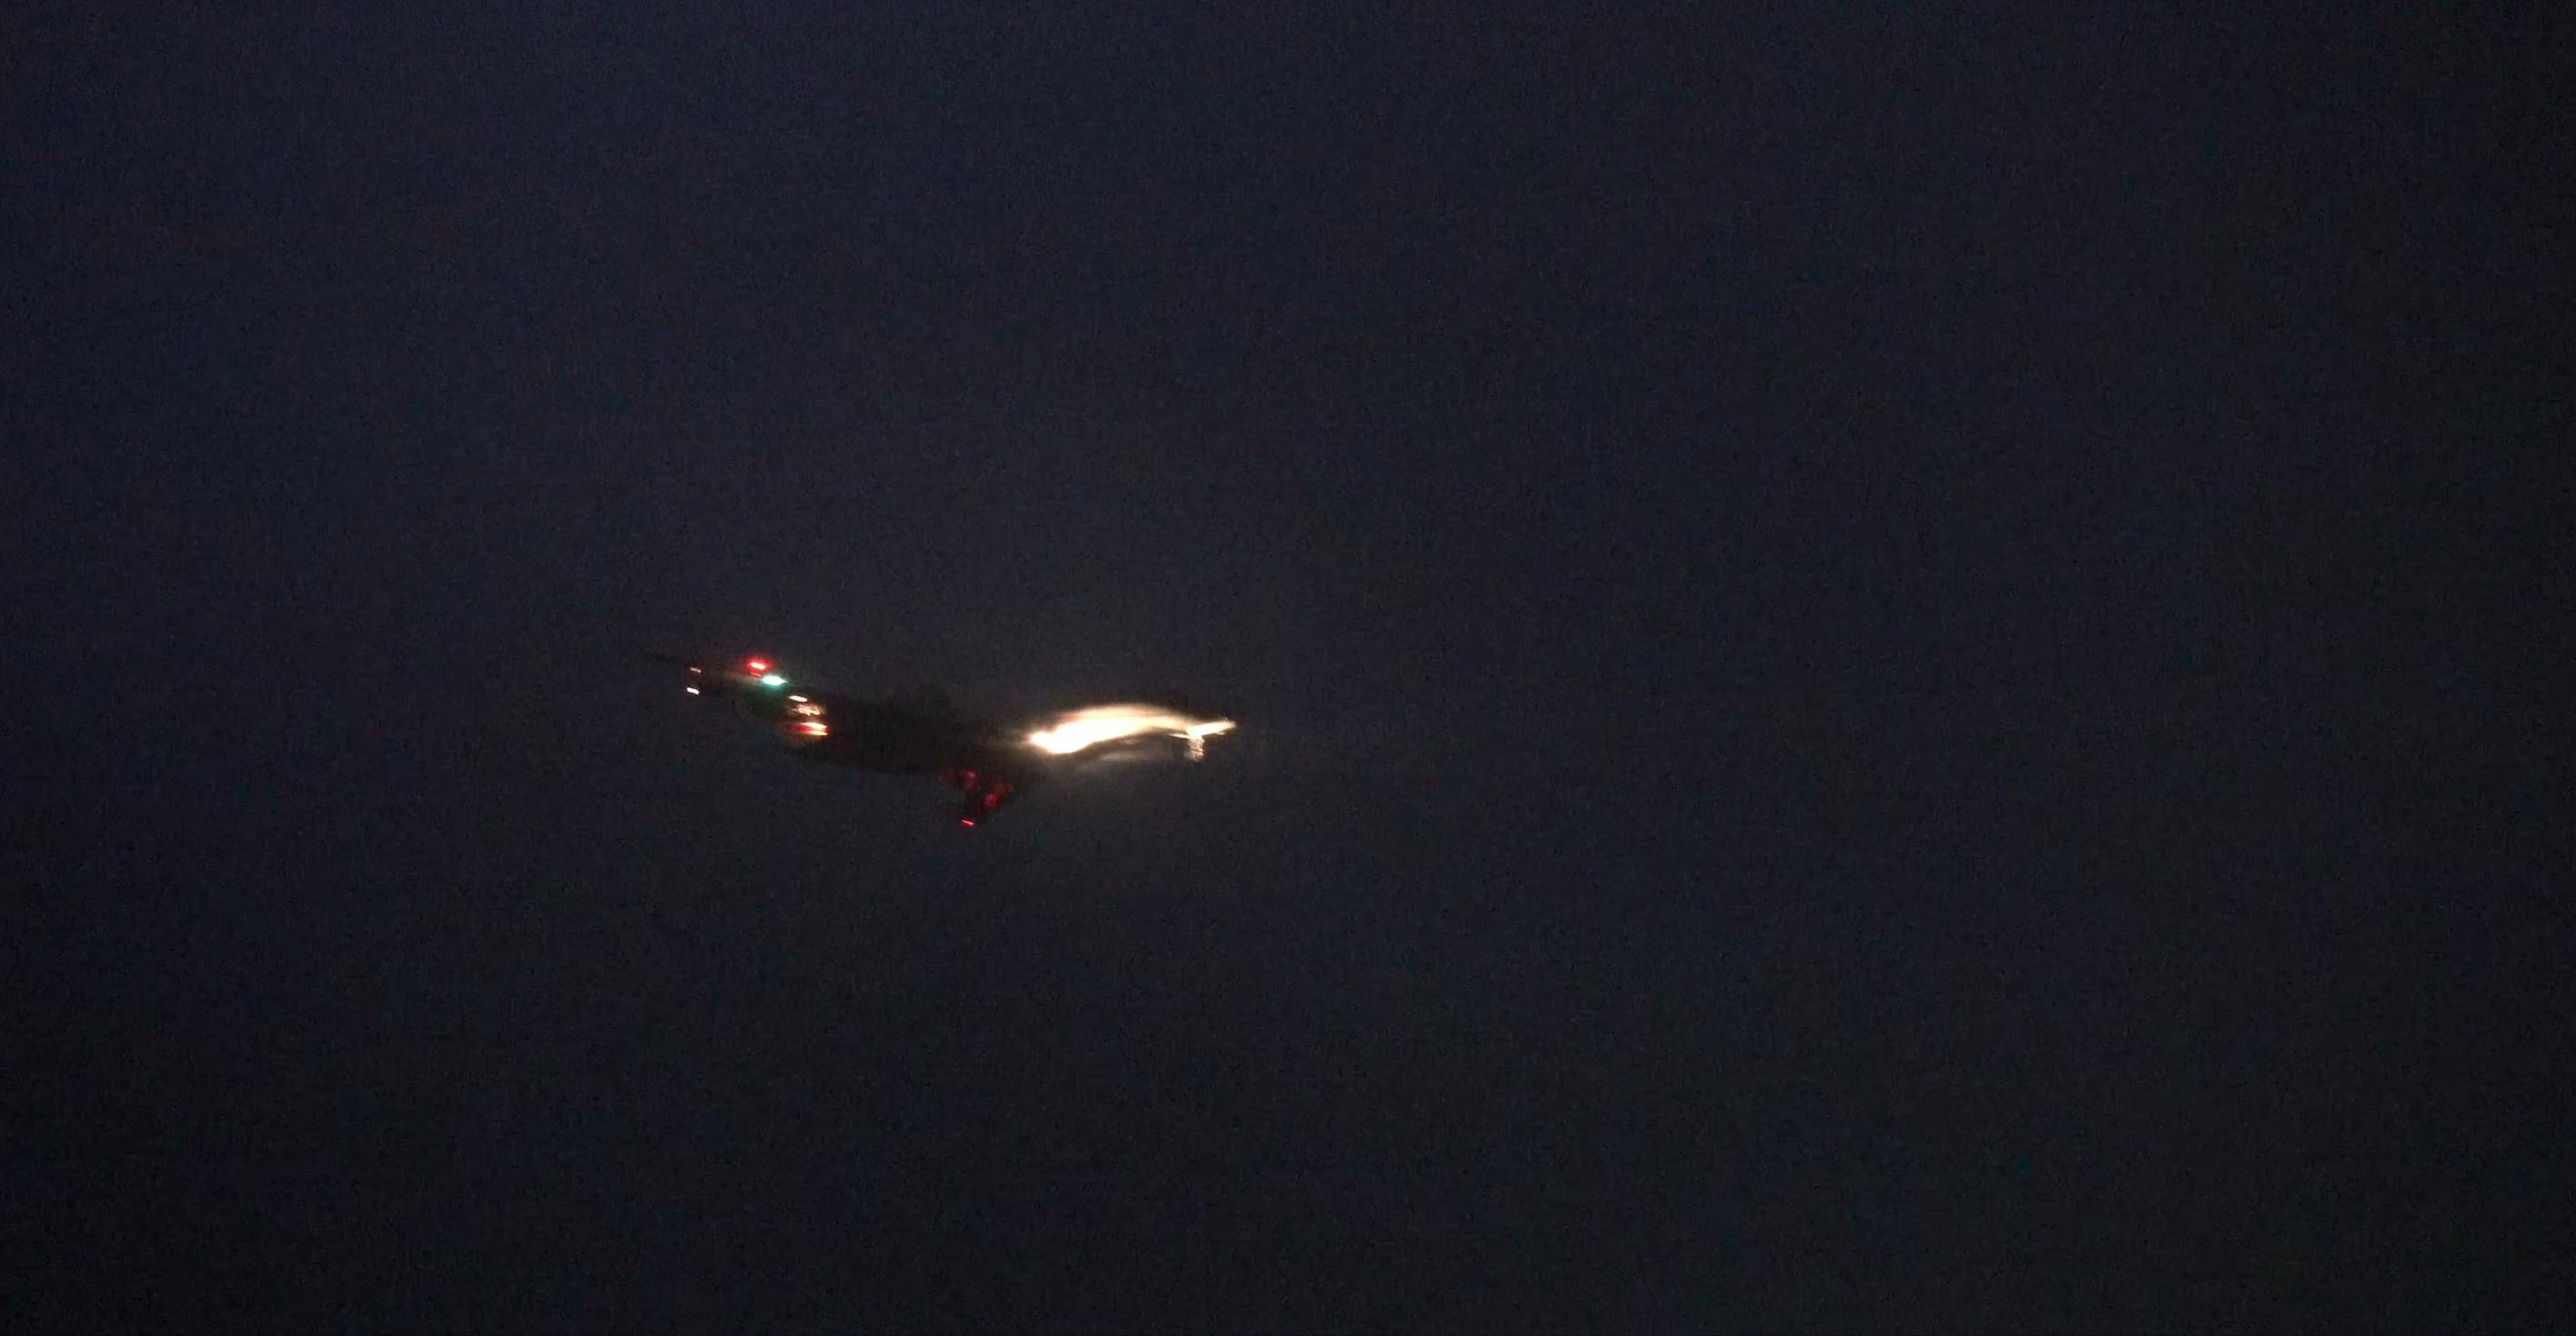Plane: (622, 625, 1317, 842)
